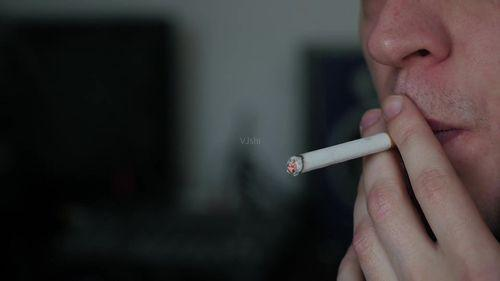smoke: (287, 123, 433, 178)
